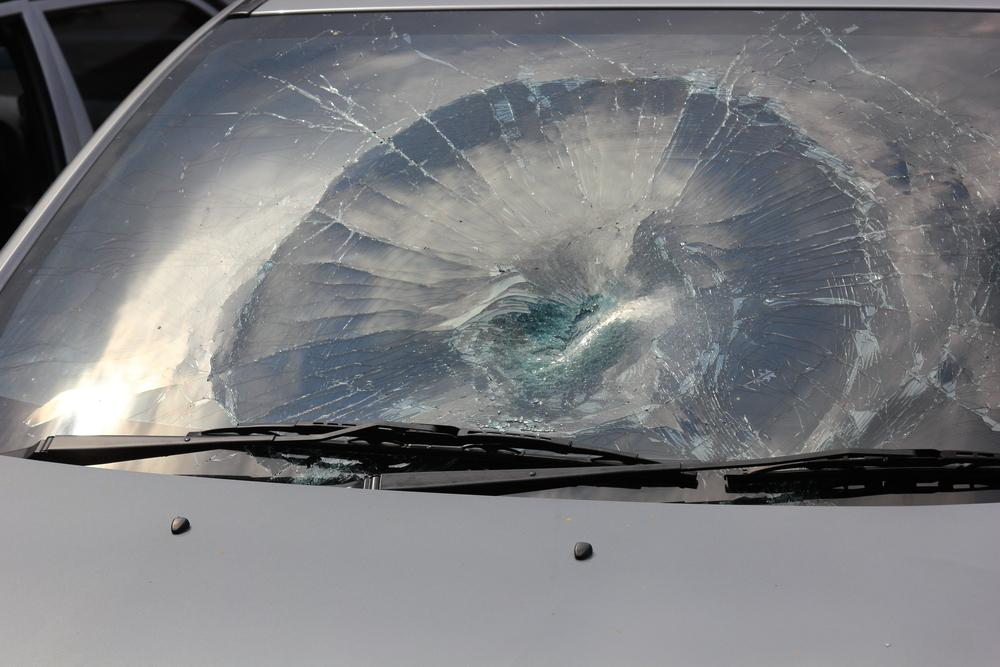glass shatter: (0, 9, 1000, 461)
